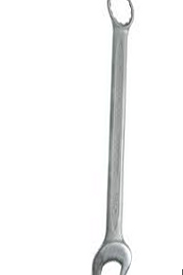Wrench: (85, 3, 148, 275)
